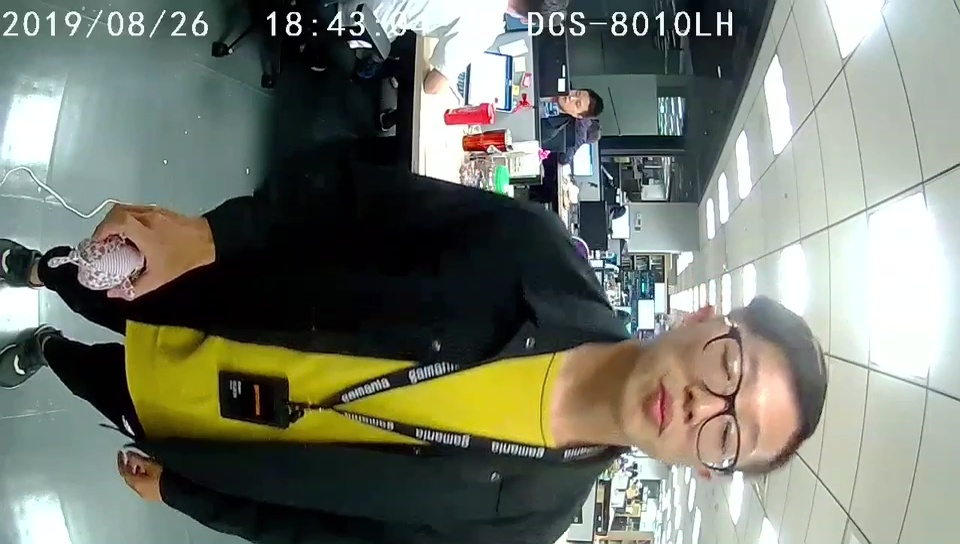pig: (76, 233, 147, 300)
